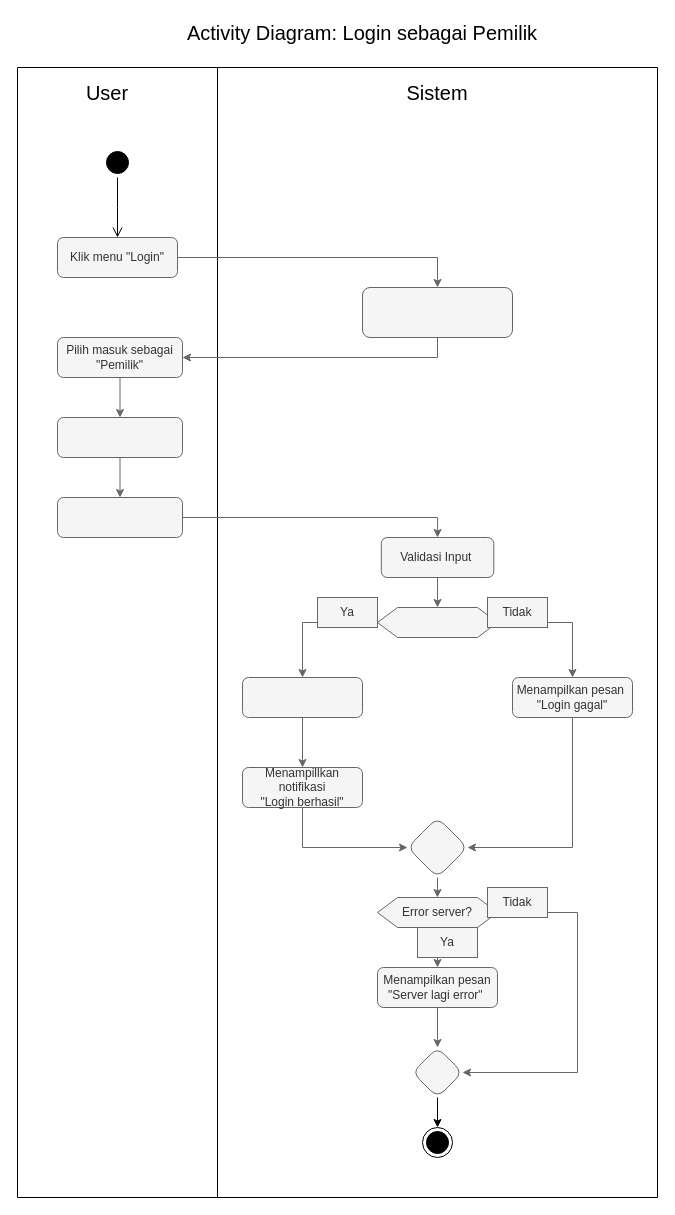
The diagram is 675 pixels wide and 1215 high, and some of its shapes have lost their labels. Here are the shapes that lost their labels. From the top down, the centre of each, then its label:
(437,312): Tampilkan form login (masuk sebagai pemilik/penyewa, email, password)
(119,437): Isi form login
(119,517): Klik tombol "Masuk"
(437,622): Data sesuai?
(302,697): Simpan data login ke database
